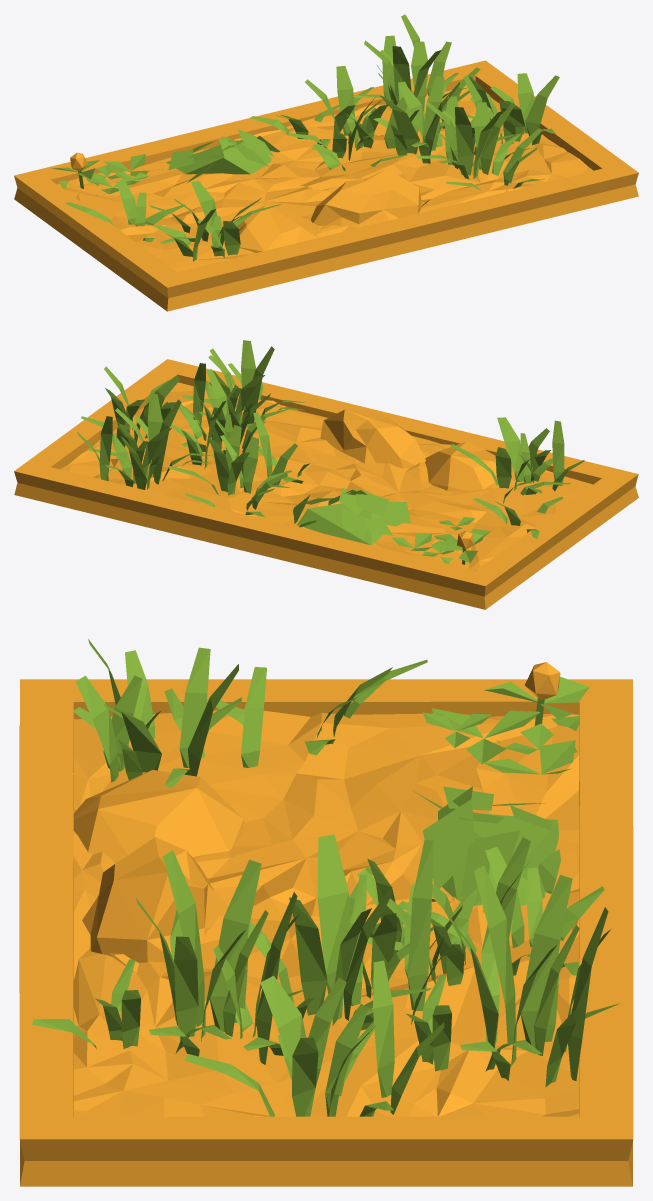
Rendered from SM_Tree_Pot_City_D_2m_Foliage.fbx.
3 views of the same model, one above another, from view 1: azimuth 30°, elevation 25°; view 2: azimuth 150°, elevation 25°; view 3: azimuth 270°, elevation 25° (orthographic). The views are drawn at different scales.
Parts seen in each view (by area): view 1: SM_Tree_Pot_City_D_2m_Foliage; view 2: SM_Tree_Pot_City_D_2m_Foliage; view 3: SM_Tree_Pot_City_D_2m_Foliage.
Boxes of the visible parts, bbox=[...] form: SM_Tree_Pot_City_D_2m_Foliage: bbox=[14, 14, 638, 311]; SM_Tree_Pot_City_D_2m_Foliage: bbox=[14, 340, 638, 609]; SM_Tree_Pot_City_D_2m_Foliage: bbox=[19, 639, 633, 1186].
Bounding box in the file's own units: 2 × 0.4077 × 1.13.
